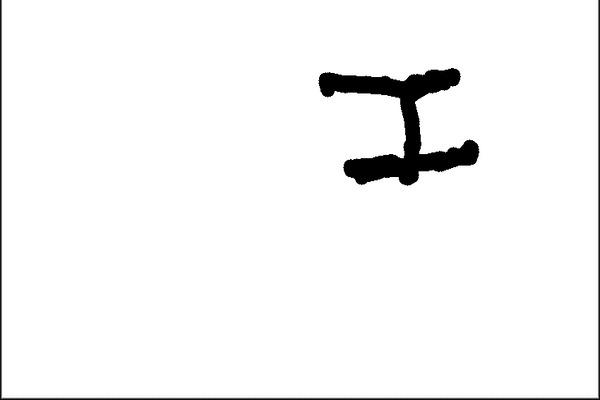i: (316, 56, 491, 190)
